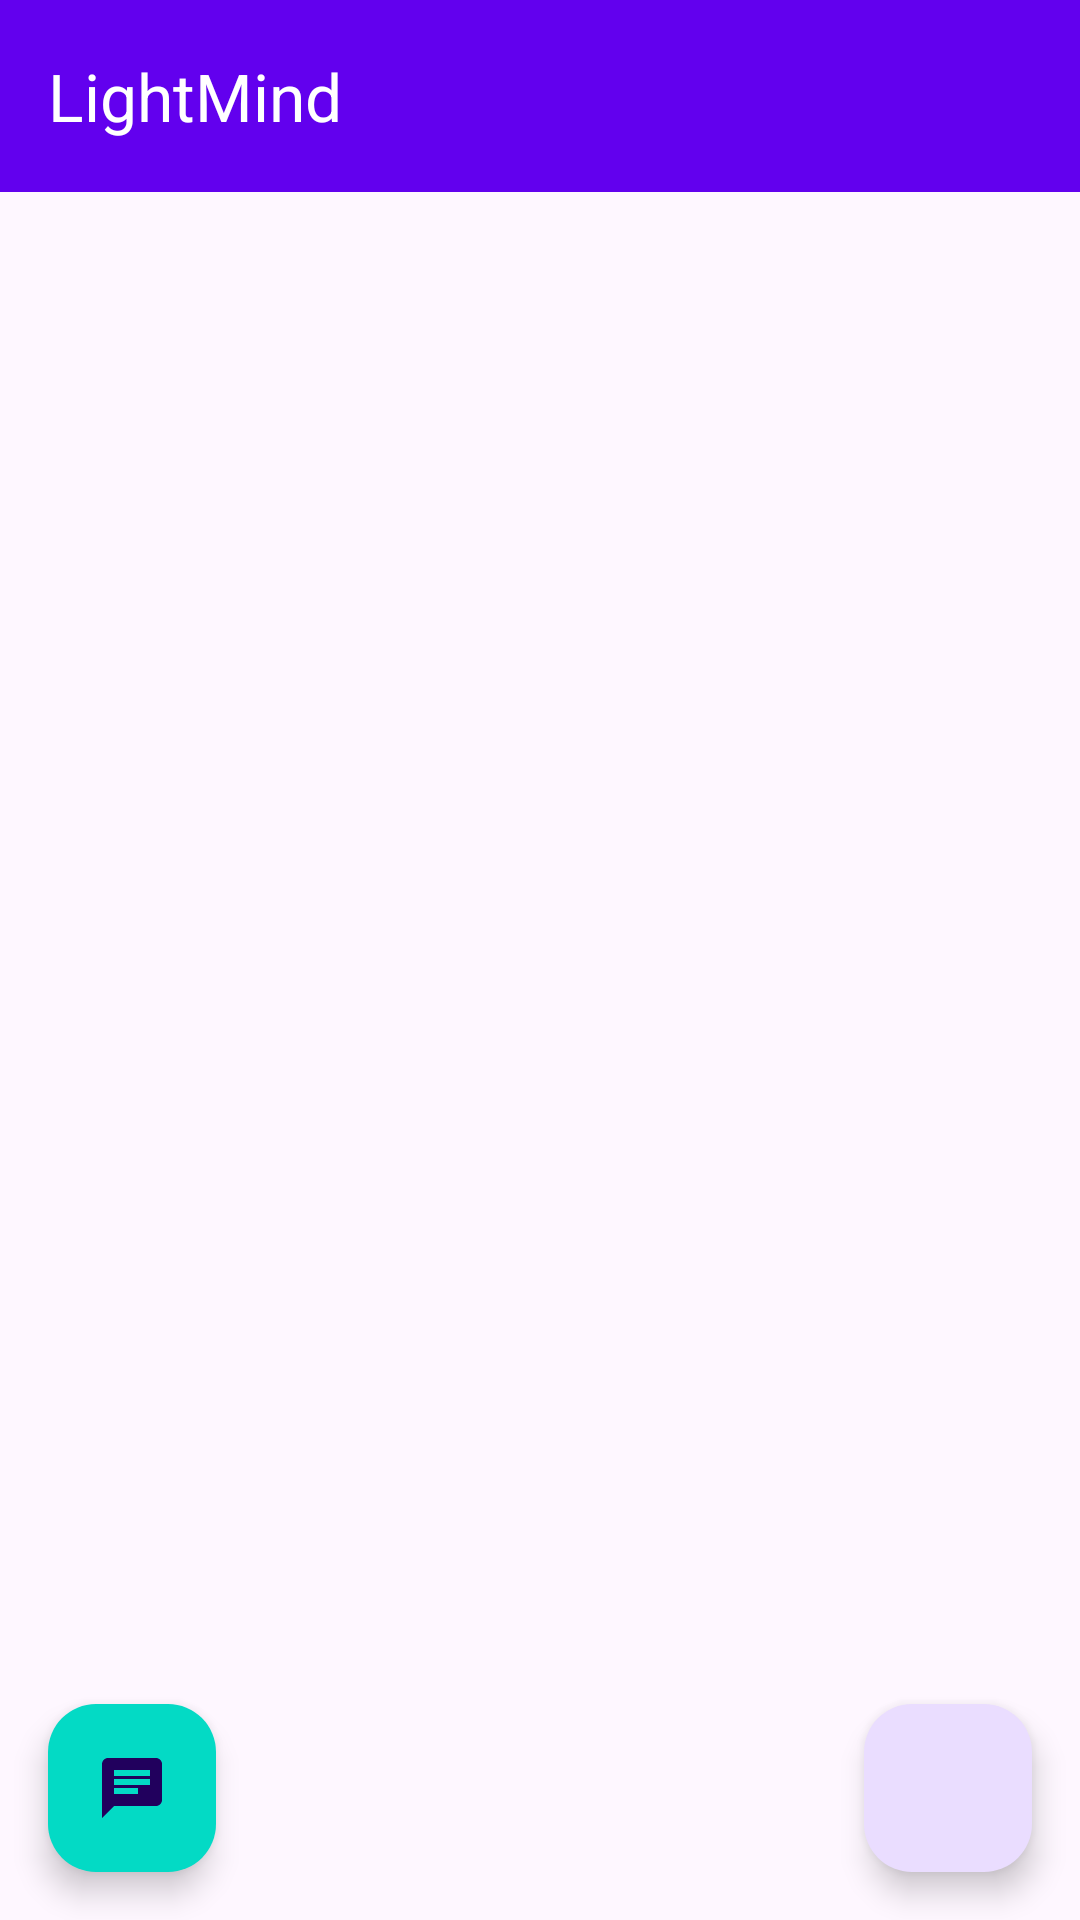

Icons on this 1080px×1920px Android screen, each with the point to tap as point (x, y):
AI Assistant: point (132, 1788)
